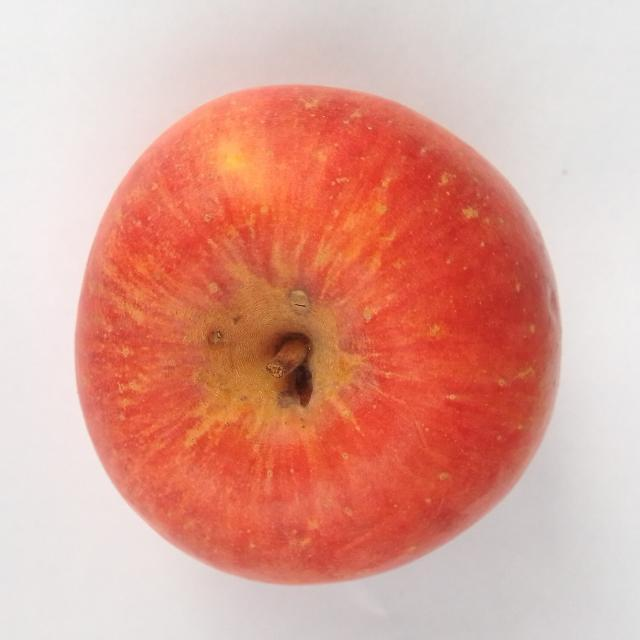Fresh Apple: (67, 75, 565, 595)
